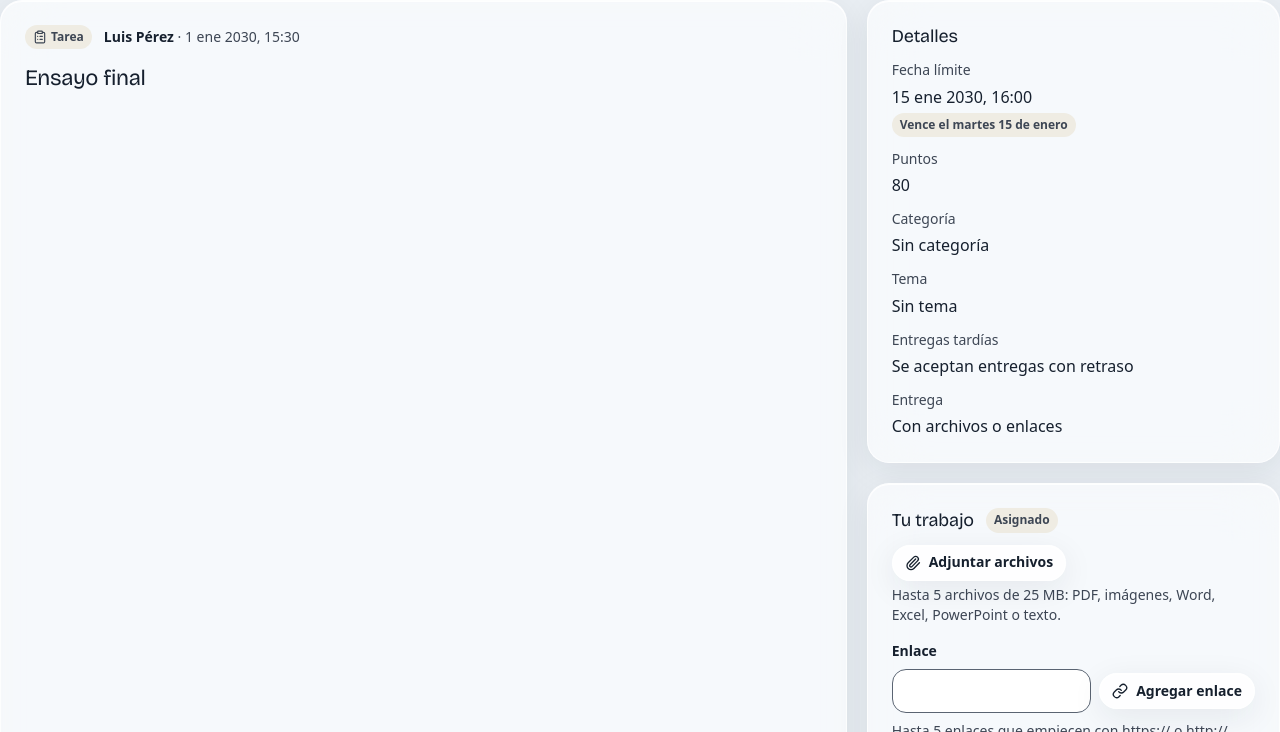
Scenario: ataque ENTREGAS-01d r2: un 409 con recargas ya en vuelo (T-r2-1, N-01) › 409 ENTREGA_YA_REALIZADA con la tarea y la entrega recargándose: una sola petición nueva por clave, un aviso, la recarga vieja se descarta y la vista dice la en
In the field labelled "Enlace": (991, 691) x1=892 y1=669 x2=1091 y2=713, type "https://ejemplo.com/a"
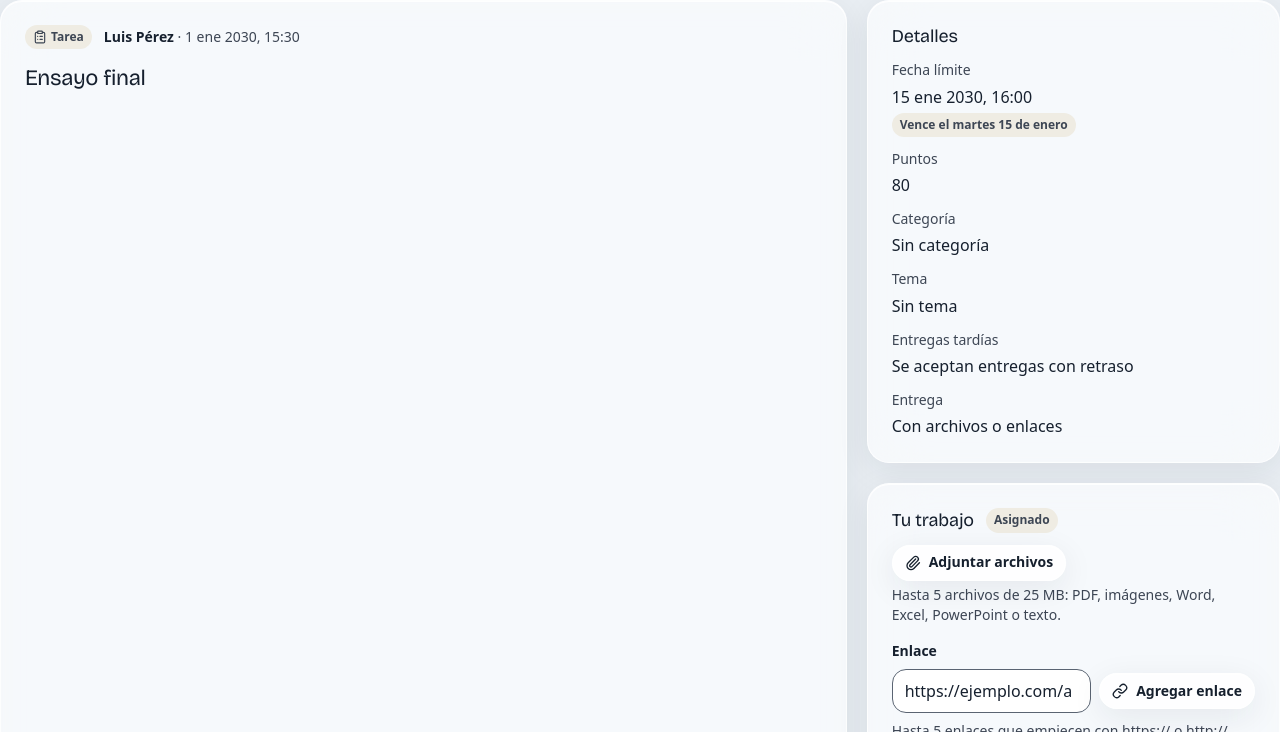
Click the button "Agregar enlace": (1177, 691) x1=1099 y1=673 x2=1255 y2=709
(page scrolled)
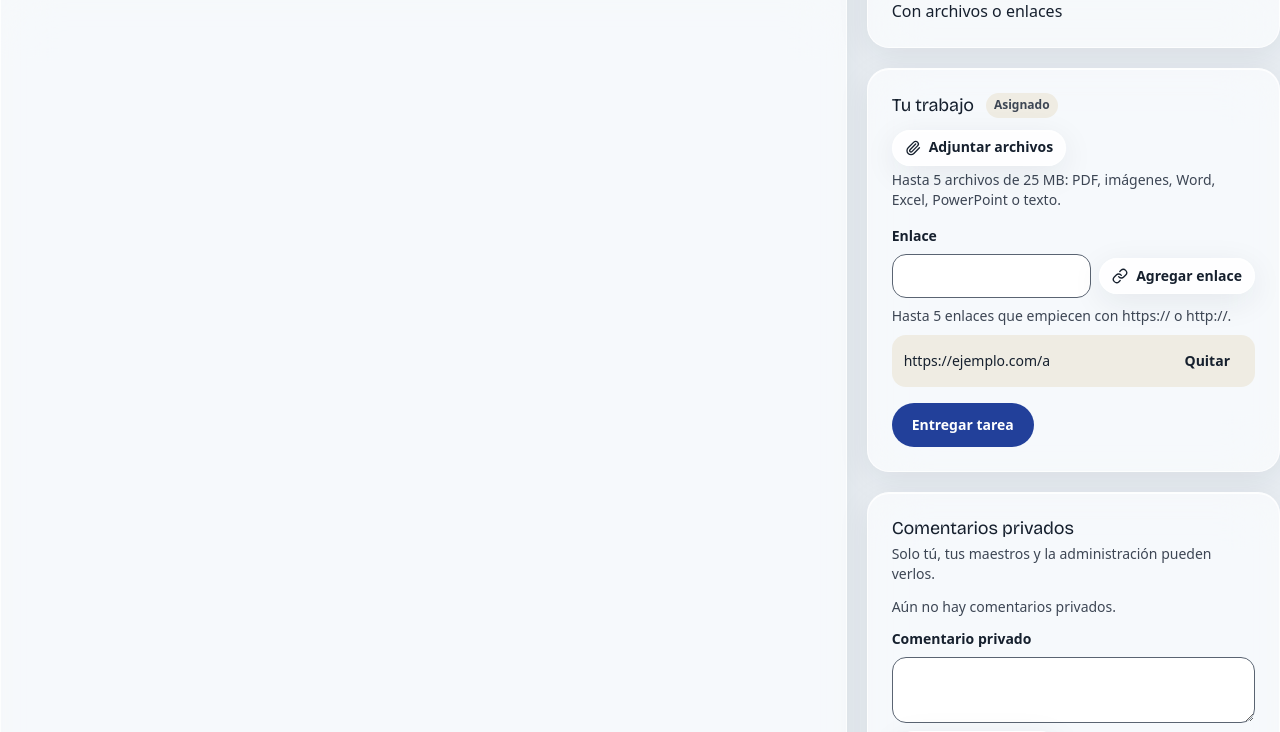
Click the button "Entregar tarea": (963, 425) x1=892 y1=403 x2=1034 y2=447
(page scrolled)
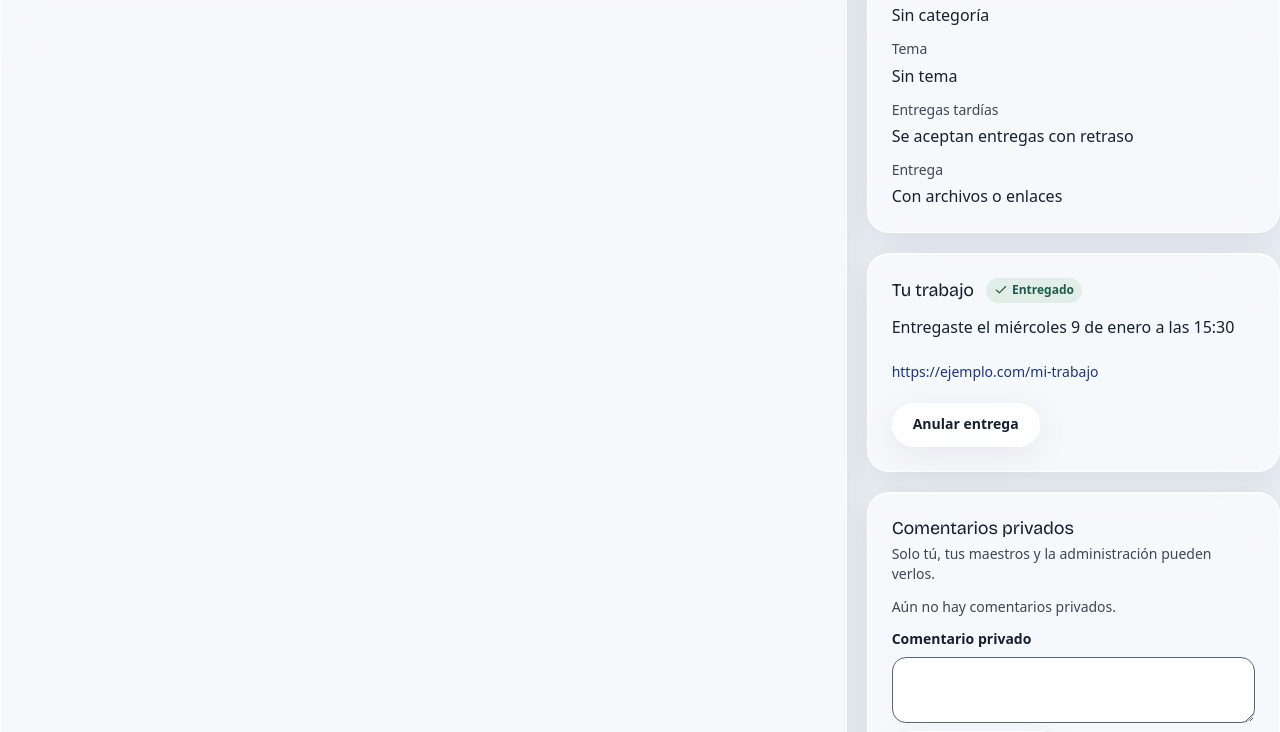
Result: the text "Entregaste el" is shown at x1=892 y1=316 x2=1234 y2=338
Result: the text "Entregado" is shown at x1=986 y1=278 x2=1082 y2=303
Result: the button "Entregar tarea" is gone
